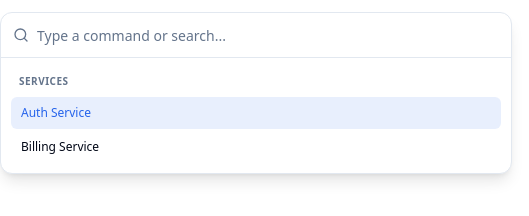
Test: Command component › filters items when typing into search input and shows empty state
Type "Billing" into the search field.
click(268, 35); type("Billing")  # box [37,13,499,57]
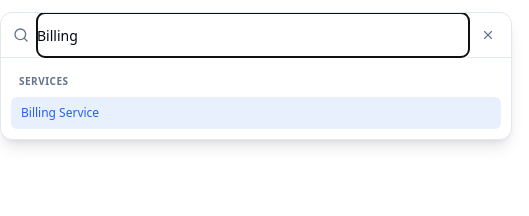
Expected: the text "Billing Service" is shown, [21,104,99,121]
Expected: the option "Auth Service" is gone
Type "xyznonexistent" into the search field.
click(253, 35); type("xyznonexistent")  # box [37,13,469,57]
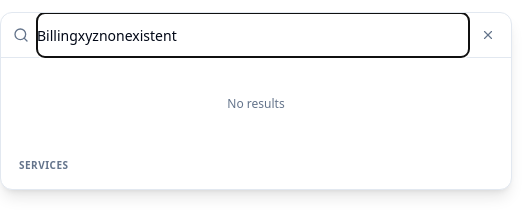
Expected: the text "No results" is shown, [227,95,285,112]
